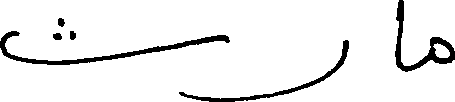ا: (395, 0, 402, 71)
ث: (0, 15, 228, 99)
ر: (225, 34, 348, 101)
م: (430, 34, 453, 64)
